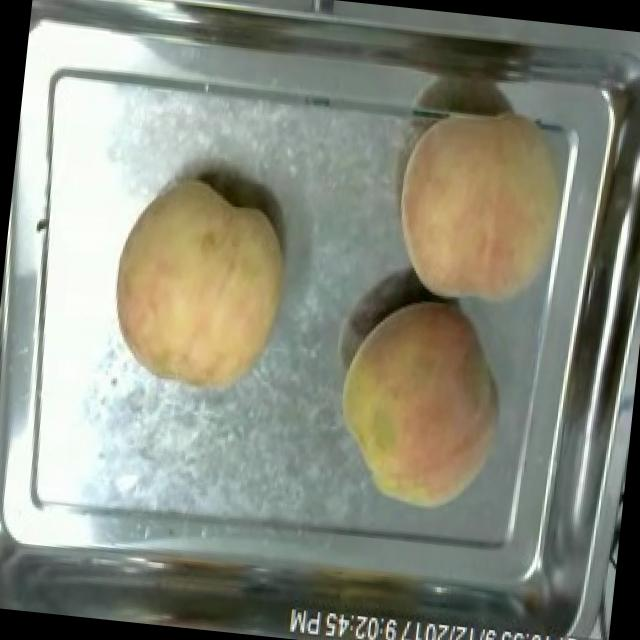Fruit: (96, 169, 302, 405), (380, 92, 589, 324), (322, 290, 518, 523)
